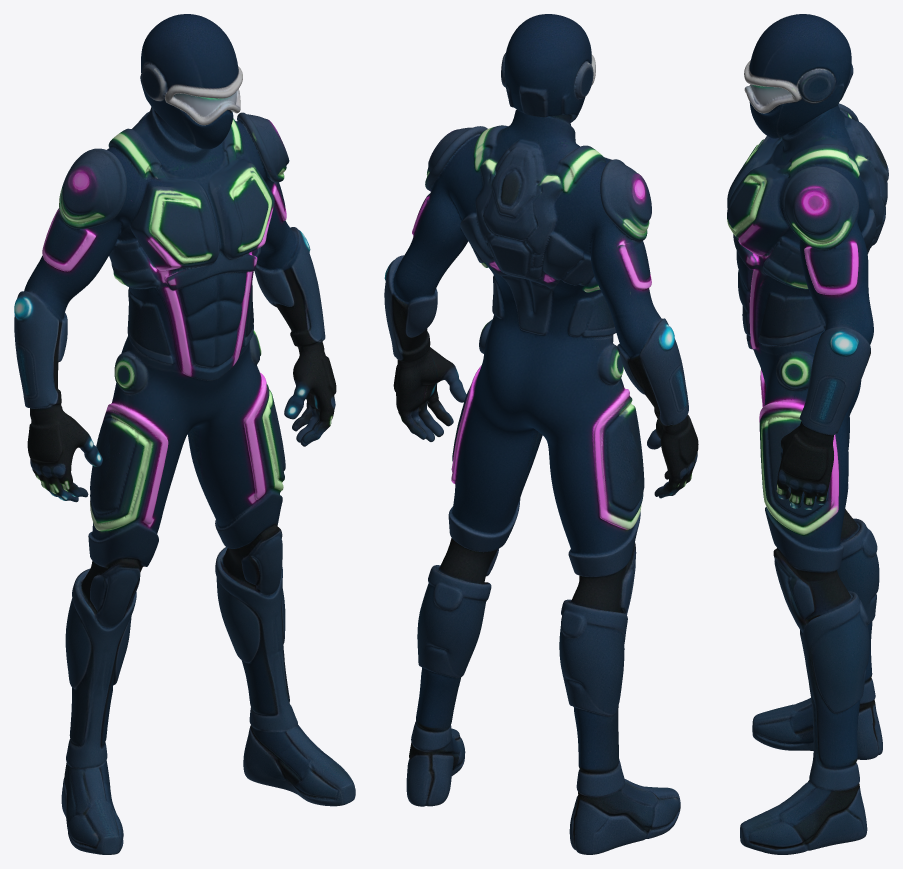
Rendered from player_colored.glb.
3 renders of one model, left to right at view 1: azimuth 30°, elevation 25°; view 2: azimuth 150°, elevation 25°; view 3: azimuth 270°, elevation 25°, orthographic. The views are drawn at different scales.
Size of the model in its own units: 0.7424 by 1.9 by 0.3619.
1 material, 1 textured.
